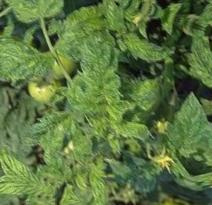Tomato leaf yellow virus: (65, 26, 137, 110), (107, 62, 176, 135), (155, 83, 212, 168), (111, 19, 182, 76), (1, 33, 61, 97), (0, 144, 59, 191), (179, 28, 212, 90), (22, 0, 74, 35)
